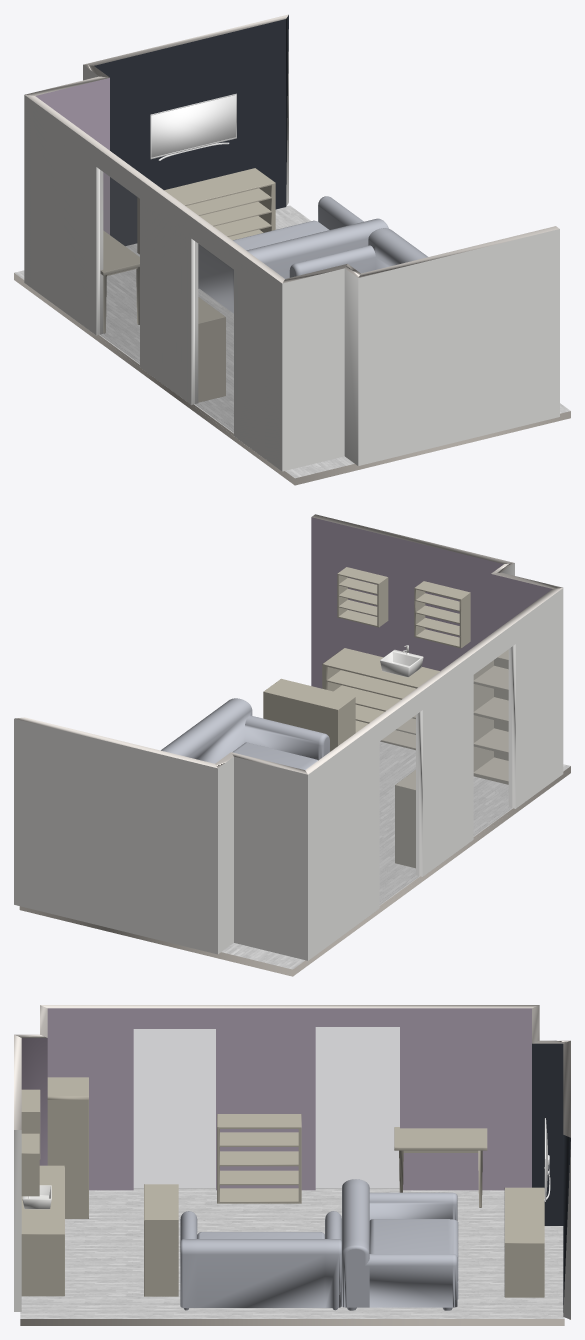
File: room.glb
3 renders of one model, top to bottom at view 1: azimuth 30°, elevation 25°; view 2: azimuth 150°, elevation 25°; view 3: azimuth 270°, elevation 25°, orthographic. The views are drawn at different scales.
Visible parts, largest first — view 1: wall_2, wall_6, wall_3, wall_0, floor_0, object_7, door_0, door_1, object_9, object_6, wall_5, wall_1 (+3 smaller); view 2: wall_3, wall_6, wall_2, wall_5, floor_0, object_7.001, door_0, door_1, object_5, object_3, object_0, object_8 (+5 smaller); view 3: wall_6, floor_0, object_7, door_0, object_7.001, door_1, object_0.001, wall_4, object_3, object_5, object_9, object_0 (+7 smaller).
Boxes of the visible parts, x1,y1,x2,y2 form: wall_2: [358, 226, 559, 465]; wall_6: [24, 95, 284, 471]; wall_3: [84, 14, 288, 245]; wall_0: [282, 264, 347, 471]; floor_0: [14, 205, 570, 485]; object_7: [198, 196, 388, 313]; door_0: [100, 170, 139, 363]; door_1: [195, 241, 233, 432]; object_9: [137, 168, 275, 254]; object_6: [150, 93, 236, 160]; wall_5: [25, 76, 109, 234]; wall_1: [344, 264, 360, 465]; wall_3: [14, 717, 217, 954]; wall_6: [305, 588, 563, 960]; wall_2: [311, 514, 513, 688]; wall_5: [231, 752, 307, 960]; floor_0: [19, 741, 570, 976]; object_7.001: [161, 698, 329, 769]; door_0: [380, 713, 418, 904]; door_1: [474, 647, 511, 835]; object_5: [322, 648, 439, 749]; object_3: [473, 649, 508, 784]; object_0: [263, 678, 355, 751]; object_8: [414, 581, 470, 648]; wall_6: [40, 1005, 539, 1190]; floor_0: [20, 1188, 564, 1325]; object_7: [342, 1179, 458, 1310]; door_0: [316, 1027, 399, 1188]; object_7.001: [180, 1211, 341, 1310]; door_1: [134, 1029, 215, 1188]; object_0.001: [217, 1114, 301, 1203]; wall_4: [532, 1040, 569, 1225]; object_3: [47, 1077, 88, 1218]; object_5: [21, 1165, 64, 1296]; object_9: [504, 1187, 544, 1297]; object_0: [144, 1184, 178, 1296].
Bounding box in the file's own units: 4.1 × 2.72 × 7.27.
Materials: 38 (1 with a texture image).
